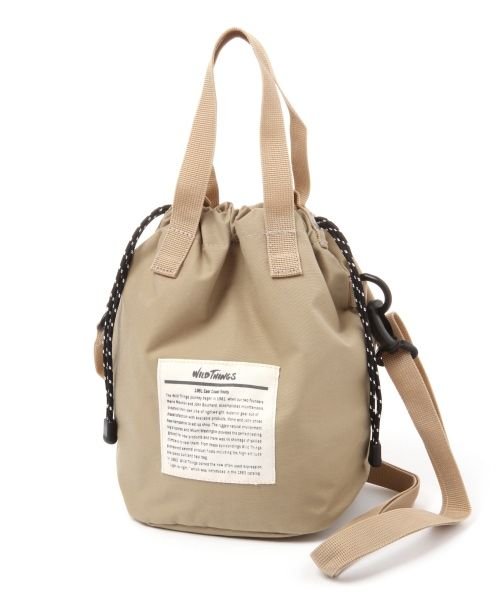nylon: (94, 27, 473, 581)
